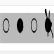correct: (16, 16, 24, 36)
no answer: (2, 17, 10, 34), (30, 17, 38, 34)
not correct: (44, 6, 54, 40)
